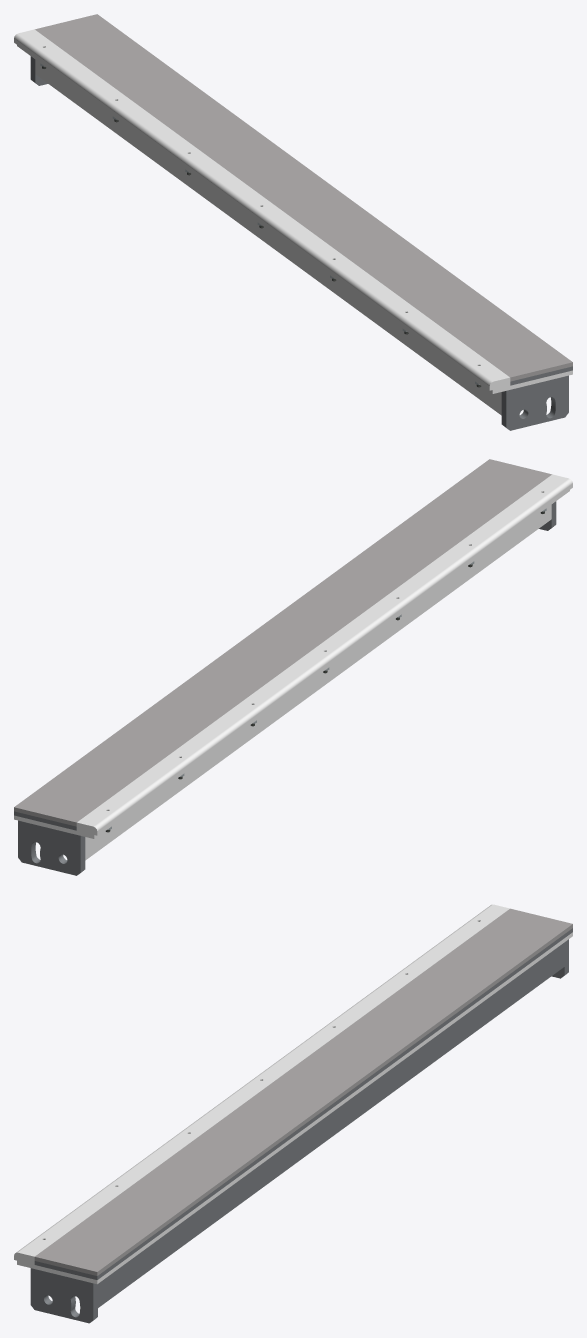
The model's file is M114415-android.glb.
3 views of the same model, one above another, from view 1: azimuth 30°, elevation 25°; view 2: azimuth 150°, elevation 25°; view 3: azimuth 330°, elevation 25° (orthographic).
Parts seen in each view (by area): view 1: Solid1 (×5); view 2: Solid1 (×5); view 3: Solid1 (×6).
Boxes of the visible parts, bbox=[...] form: Solid1 (×5): bbox=[14, 14, 572, 430]; Solid1 (×5): bbox=[14, 459, 572, 875]; Solid1 (×6): bbox=[14, 904, 572, 1323].
Size of the model in its own units: 0.1349 by 0.0825 by 1.33.
8 materials, 1 textured.
